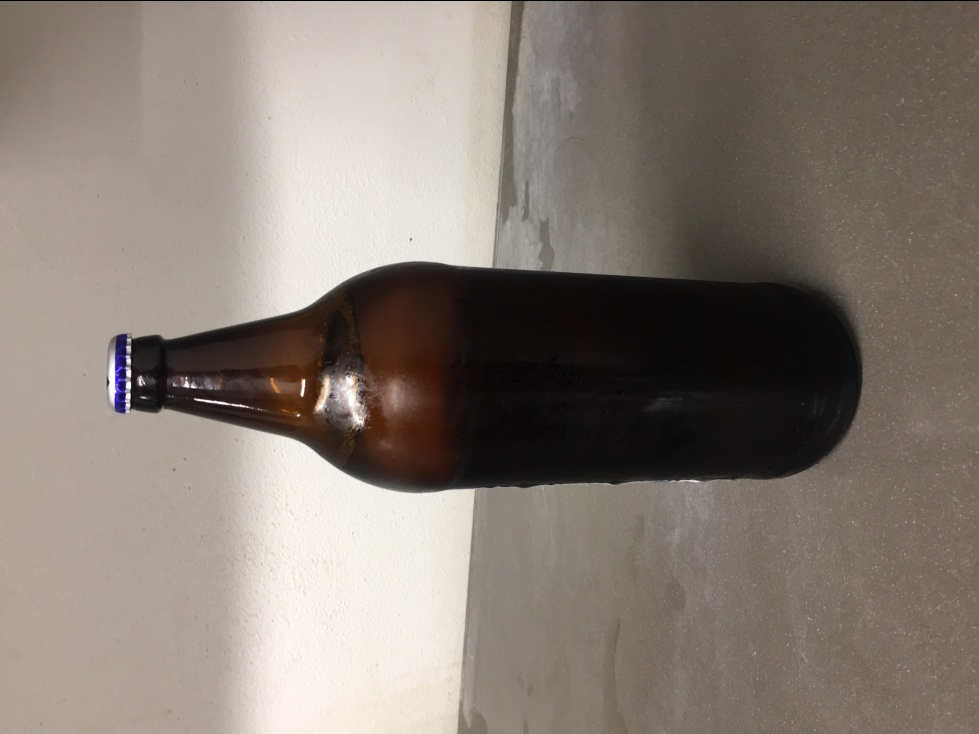tecateC: (95, 261, 858, 486)
